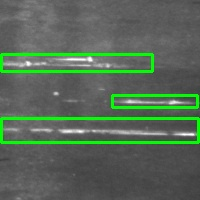scratches: (1, 118, 198, 142), (1, 54, 152, 71), (112, 95, 197, 107)
